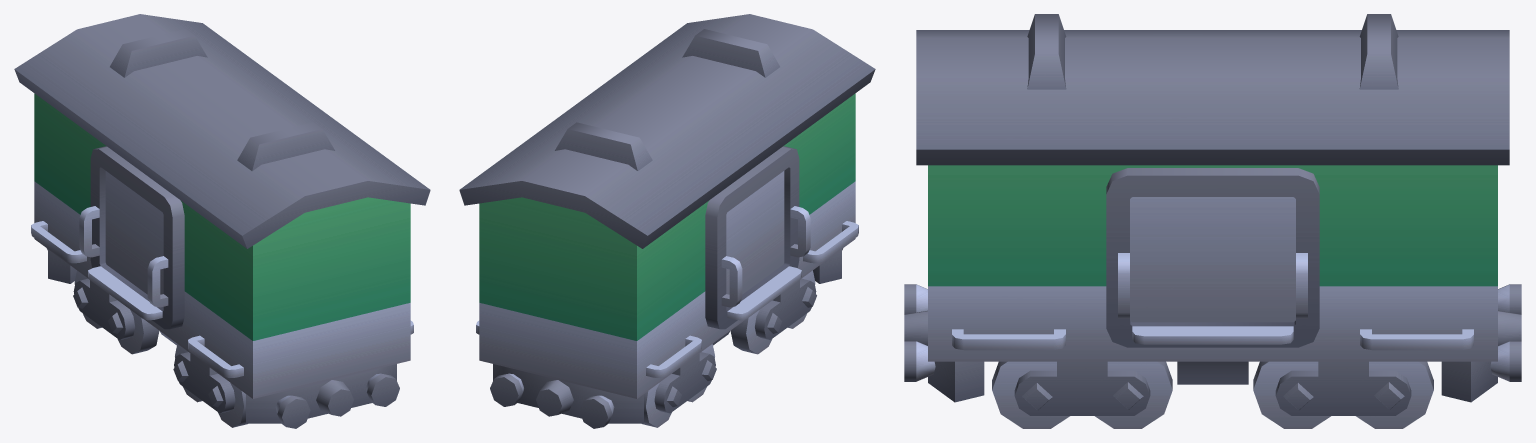
Rendered from kenney-train-train-diesel-box-c.glb.
The picture shows the model from 3 angles, left to right: view 1: azimuth 30°, elevation 25°; view 2: azimuth 150°, elevation 25°; view 3: azimuth 270°, elevation 25°; orthographic projection. The views are drawn at different scales.
Parts seen in each view (by area): view 1: train-diesel-box-c, wheels-back, wheels-front; view 2: train-diesel-box-c, wheels-front, wheels-back; view 3: train-diesel-box-c, wheels-back, wheels-front.
Boxes of the visible parts, x1,y1,x2,y2 form: train-diesel-box-c: (14, 14, 430, 428); wheels-back: (73, 270, 159, 354); wheels-front: (173, 344, 247, 427); train-diesel-box-c: (459, 14, 875, 428); wheels-front: (730, 270, 816, 354); wheels-back: (642, 344, 716, 427); train-diesel-box-c: (904, 14, 1521, 402); wheels-back: (1253, 361, 1433, 428); wheels-front: (992, 361, 1172, 428).
Bounding box in the file's own units: 1.35 × 1.65 × 2.6.
Materials: 1 (1 with a texture image).
